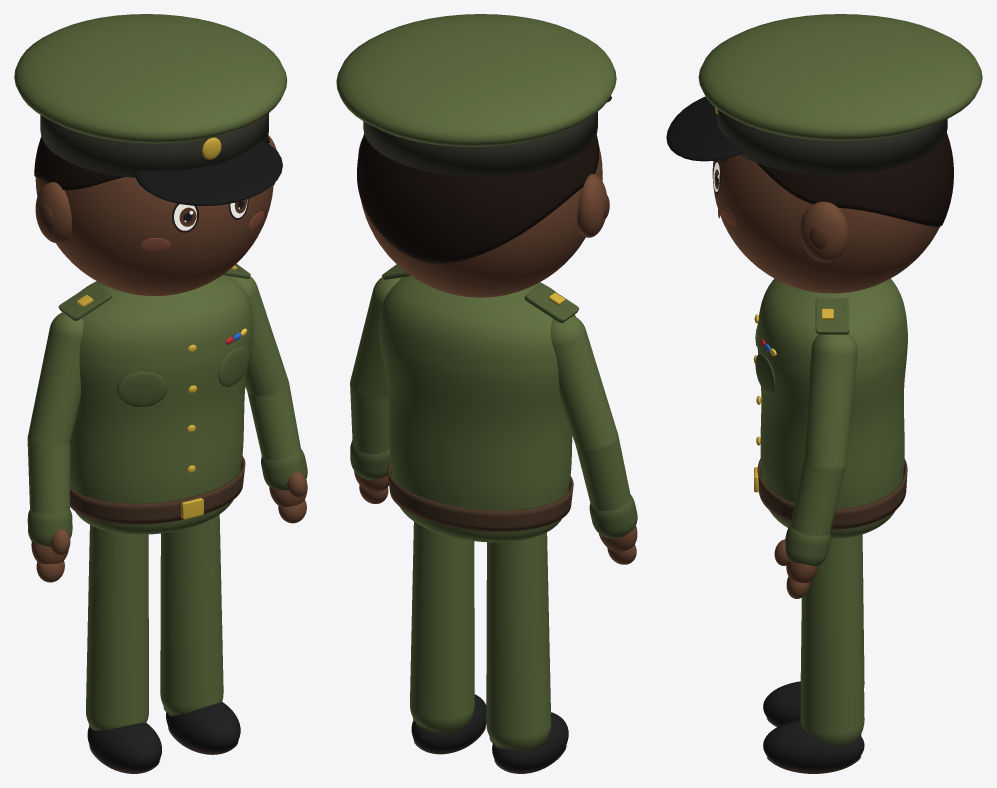
The model's file is officier.glb.
The picture shows the model from 3 angles, left to right: view 1: azimuth 30°, elevation 25°; view 2: azimuth 150°, elevation 25°; view 3: azimuth 270°, elevation 25°; orthographic projection. The views are drawn at different scales.
Parts seen in each view (by area): view 1: officier_romp, officier_pet_bol, officier_hoofd, officier_been_R, officier_been_L, officier_pet_band, officier_pet_klep, officier_bovenarm_R, officier_riem, officier_bovenarm_L, officier_onderarm_R, officier_schoen_R (+9 smaller); view 2: officier_romp, officier_pet_bol, officier_haar, officier_been_R, officier_been_L, officier_hoofd, officier_pet_band, officier_bovenarm_R, officier_riem, officier_bovenarm_L, officier_onderarm_R, officier_onderarm_L (+6 smaller); view 3: officier_pet_bol, officier_romp, officier_hoofd, officier_been_L, officier_haar, officier_pet_band, officier_bovenarm_L, officier_schoen_L, officier_pet_klep, officier_onderarm_L, officier_riem, officier_oor_L (+4 smaller).
Part boxes in pixels (<box>): officier_romp: <box>70,275,253,534</box>; officier_pet_bol: <box>14,14,287,143</box>; officier_hoofd: <box>35,143,273,295</box>; officier_been_R: <box>86,525,148,730</box>; officier_been_L: <box>160,514,223,715</box>; officier_pet_band: <box>40,113,268,177</box>; officier_pet_klep: <box>134,140,282,205</box>; officier_bovenarm_R: <box>28,312,83,445</box>; officier_riem: <box>70,456,245,524</box>; officier_bovenarm_L: <box>230,276,288,396</box>; officier_onderarm_R: <box>27,440,70,513</box>; officier_schoen_R: <box>87,723,161,771</box>; officier_romp: <box>379,276,575,542</box>; officier_pet_bol: <box>336,14,616,146</box>; officier_haar: <box>357,134,598,263</box>; officier_been_R: <box>486,532,551,749</box>; officier_been_L: <box>410,522,474,731</box>; officier_hoofd: <box>361,145,602,297</box>; officier_pet_band: <box>363,111,597,176</box>; officier_bovenarm_R: <box>550,315,617,452</box>; officier_riem: <box>387,461,573,531</box>; officier_bovenarm_L: <box>350,277,402,398</box>; officier_onderarm_R: <box>576,437,630,510</box>; officier_onderarm_L: <box>350,386,389,454</box>; officier_pet_bol: <box>698,14,982,140</box>; officier_romp: <box>757,278,907,538</box>; officier_hoofd: <box>712,155,939,293</box>; officier_been_L: <box>800,534,864,745</box>; officier_haar: <box>757,133,953,226</box>; officier_pet_band: <box>717,109,947,174</box>; officier_bovenarm_L: <box>803,333,857,471</box>; officier_schoen_L: <box>763,720,864,769</box>; officier_pet_klep: <box>666,96,744,161</box>; officier_onderarm_L: <box>790,460,845,536</box>; officier_riem: <box>757,458,907,529</box>; officier_oor_L: <box>800,201,848,262</box>.
Size of the model in its own units: 0.7804 by 1.89 by 0.7747.
